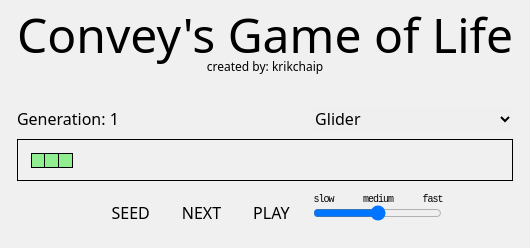
Scenario: game › generation update › from clicking next
This screenshot has width=530, height=248.
Expected: the text "Generation: 1" is shown, [17, 107, 119, 131]
Step 1. Click the button "next" → (201, 213), box [174, 197, 229, 229]
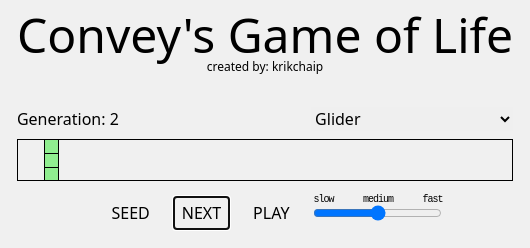
Now the text "Generation: 2" is shown, box [17, 107, 119, 131]
Step 2. Click the button "next" → (201, 213), box [174, 197, 229, 229]
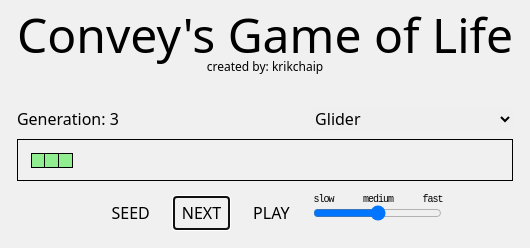
Now the text "Generation: 3" is shown, box [17, 107, 119, 131]
